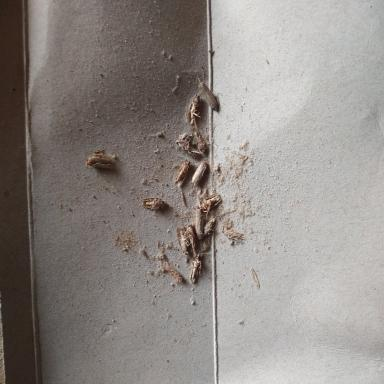pbw: (172, 149, 202, 187), (197, 77, 221, 112), (176, 132, 206, 158), (189, 252, 212, 283), (199, 192, 221, 220), (191, 157, 209, 186), (160, 262, 183, 284), (186, 93, 201, 125), (85, 153, 114, 169), (176, 226, 190, 256), (193, 124, 207, 153), (222, 224, 244, 242), (142, 197, 170, 211), (186, 224, 197, 257), (195, 207, 204, 240), (202, 216, 216, 237)
